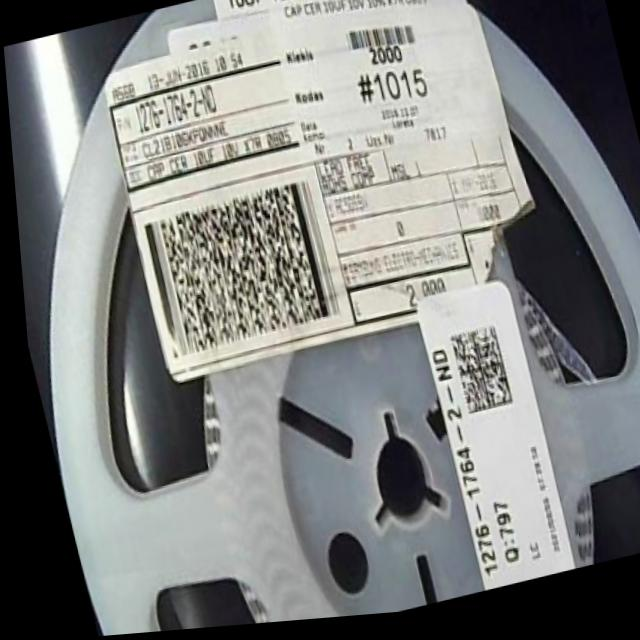datamatrix: (441, 328, 510, 427)
